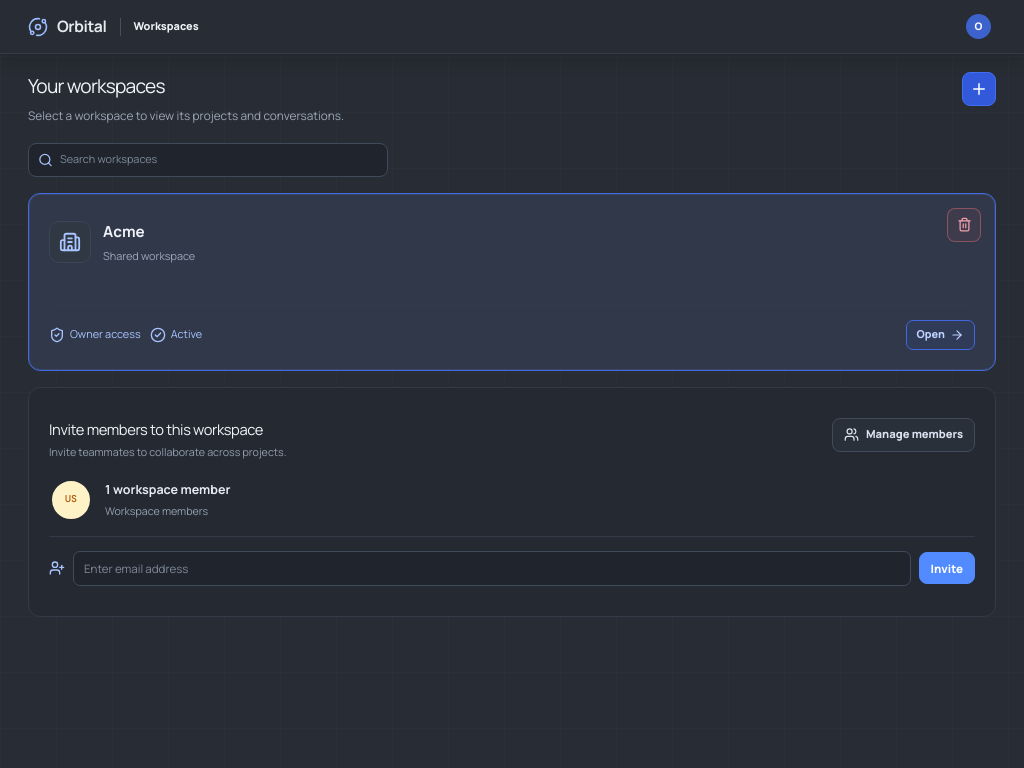
ChatApp › opens the detailed project screen without a sidebar after selecting a workspace
This screenshot has width=1024, height=768.
Click the button "Open" at point(940, 335), box [906, 320, 975, 350]
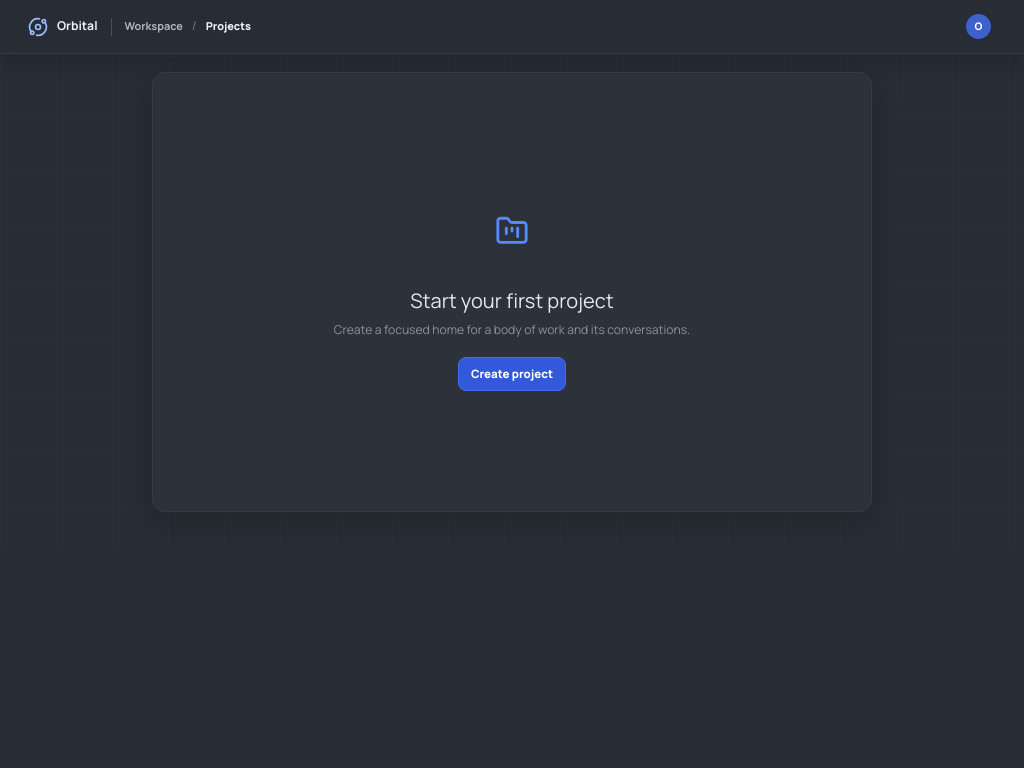
Expected: the heading "Start your first project" is shown, [410, 286, 614, 316]
